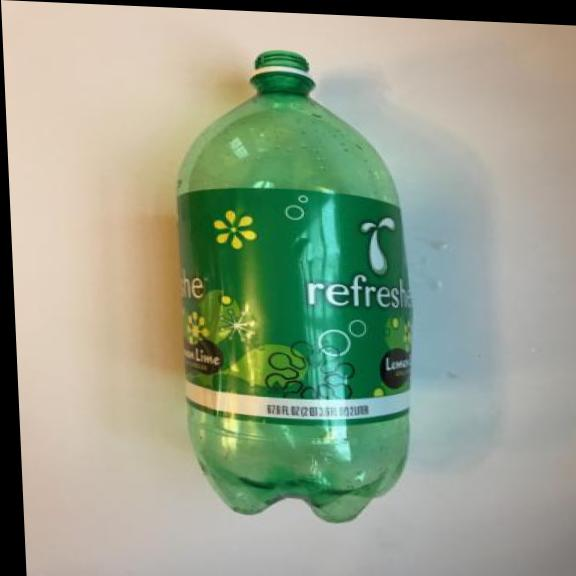Plastik: (167, 44, 423, 529)
